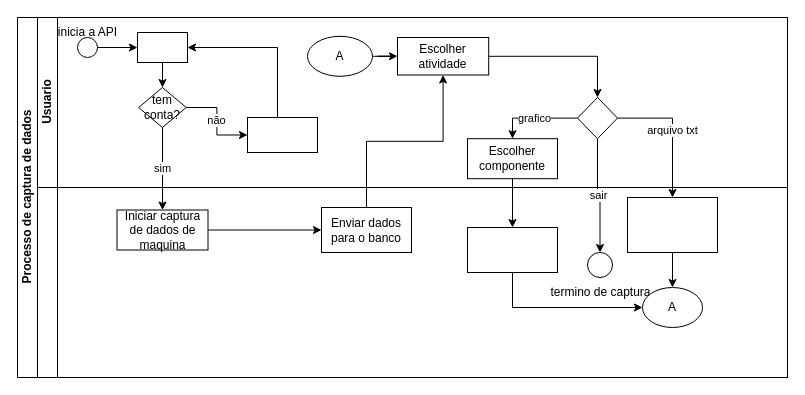
The diagram is 805 pixels wide and 395 high, and some of its shapes have lost their labels. Each missing label, with the box of its shape:
API: (36, 186, 788, 378)
Cadastrar-se: (246, 116, 318, 152)
Gerar relatorio com os dados coletados: (626, 196, 718, 252)
Logar na conta: (136, 32, 188, 62)
Plotar gráfico: (466, 226, 558, 272)
